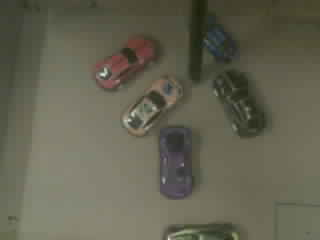Car: (123, 77, 182, 135), (213, 70, 264, 136), (95, 37, 153, 88), (160, 126, 192, 198), (204, 23, 236, 61), (166, 224, 238, 239)
